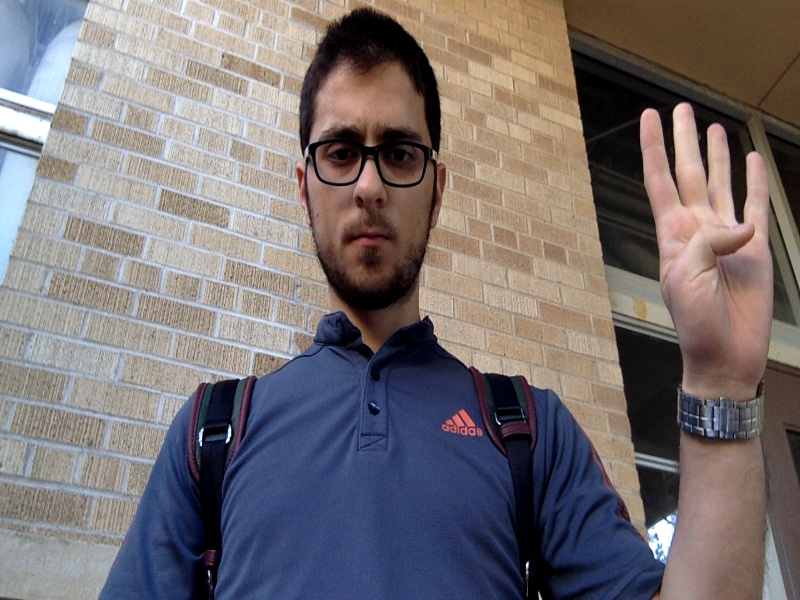4-hand: (641, 100, 772, 384)
